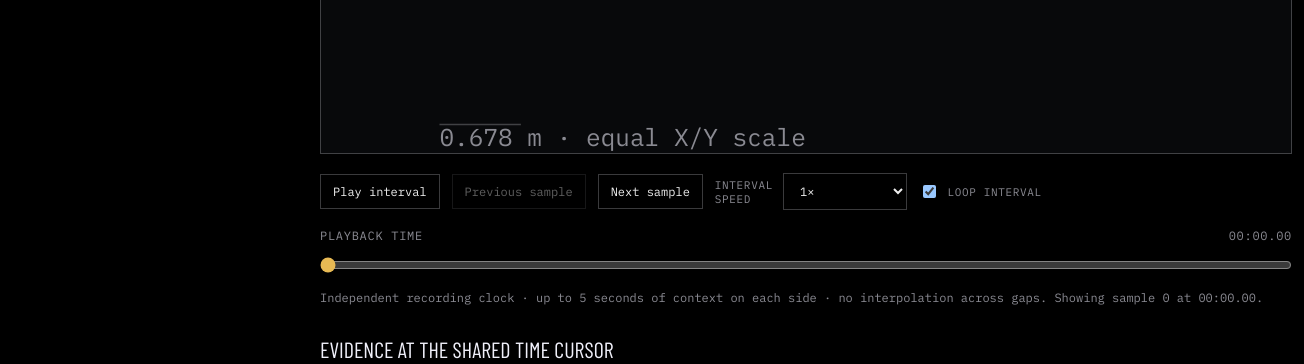
Test case: loads event filters, keeps sample stepping exact at duplicate timestamps, and hides markers in gaps
The width and height of the screenshot is (1304, 364).
(page scrolled)
Expected: the button "Play interval" is shown, [320, 174, 440, 209]
Click the button "Next sample" at (650, 192), box [598, 174, 703, 209]
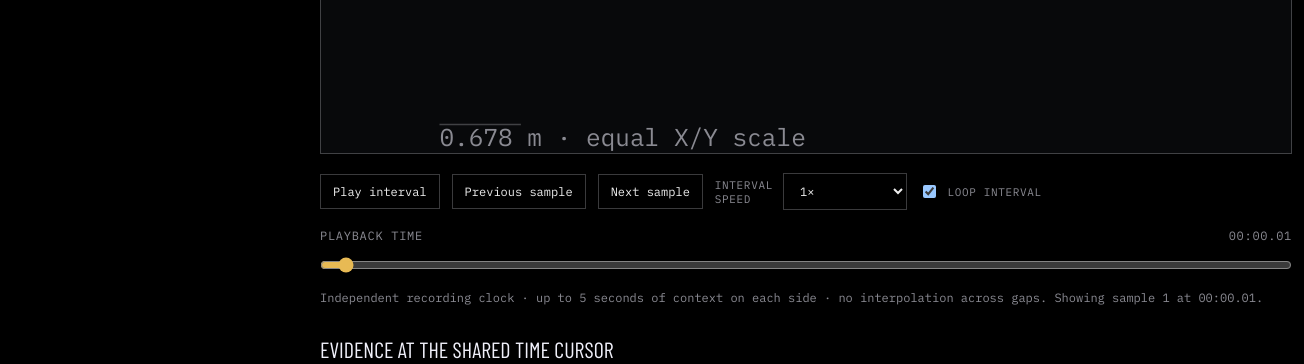
Expected: the text "Showing sample 1 at" is shown, [1054, 290, 1263, 305]
Click the button "Next sample" at (650, 192), box [598, 174, 703, 209]
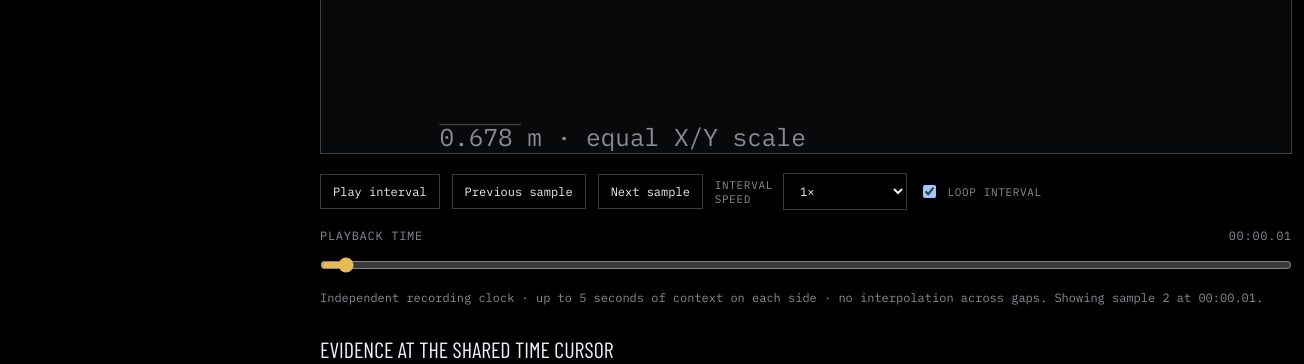
Expected: the text "Showing sample 2 at" is shown, [1054, 290, 1263, 305]
Set the slider named "Playback time" to "200" at (696, 265), box [320, 257, 1292, 273]
(page scrolled)
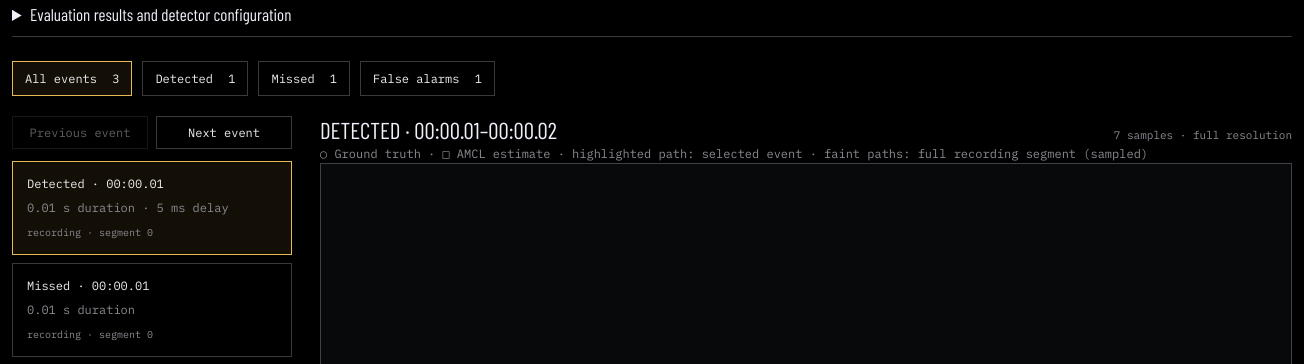
Click the button "Missed 1" at (304, 79), box [258, 61, 350, 96]
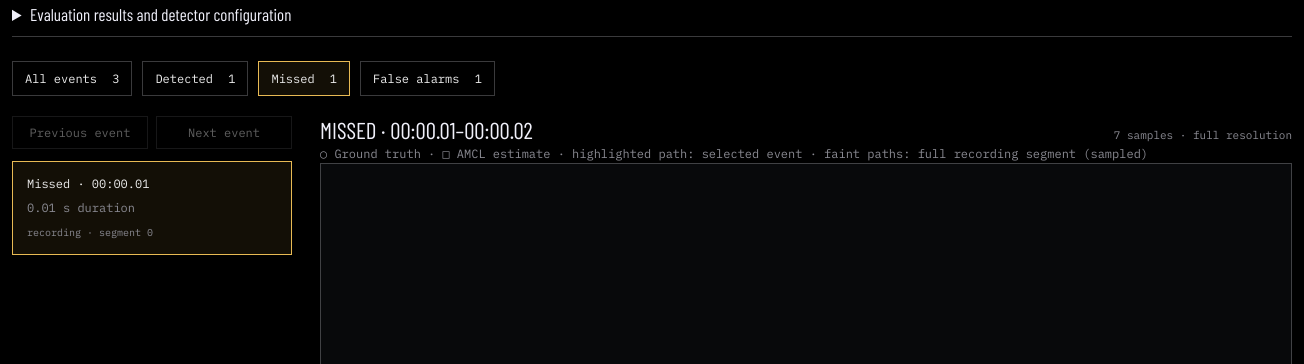
Click the button "False alarms 1" at (427, 79), box [360, 61, 495, 96]
(page scrolled)
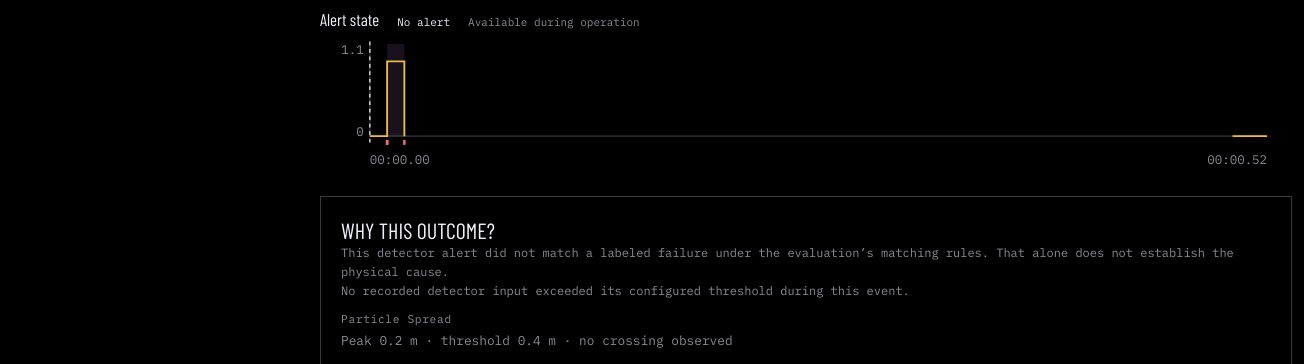
Expected: the text "This detector alert did not match" is shown, [341, 245, 1234, 279]
